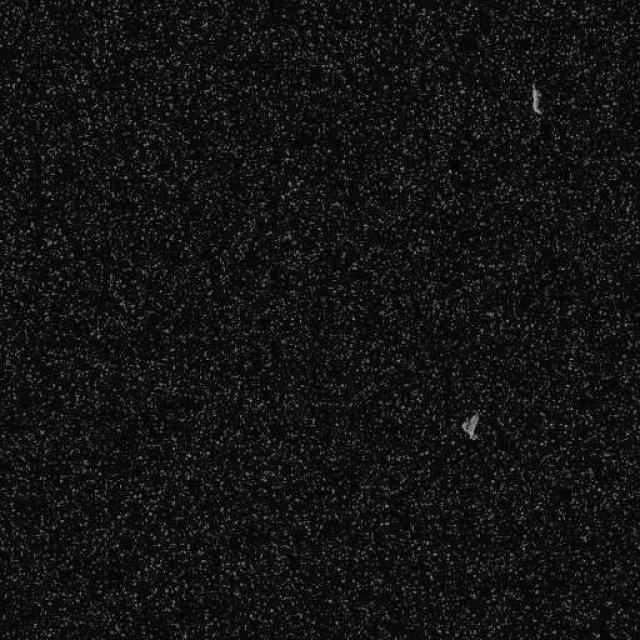D2: (459, 411, 480, 440), (530, 81, 542, 115)
